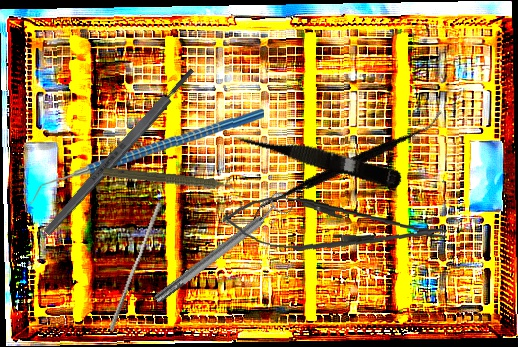Chopper: (30, 103, 264, 210)
Fixation Ring: (147, 189, 296, 310)
Handpiece: (102, 164, 239, 197)
Micro Scissor: (229, 123, 405, 191)
Needle Holder: (221, 191, 449, 263)
Pusher: (108, 199, 163, 335)
Scalpel Handle: (41, 65, 198, 238)
Spatula Surgical: (249, 56, 443, 280)
